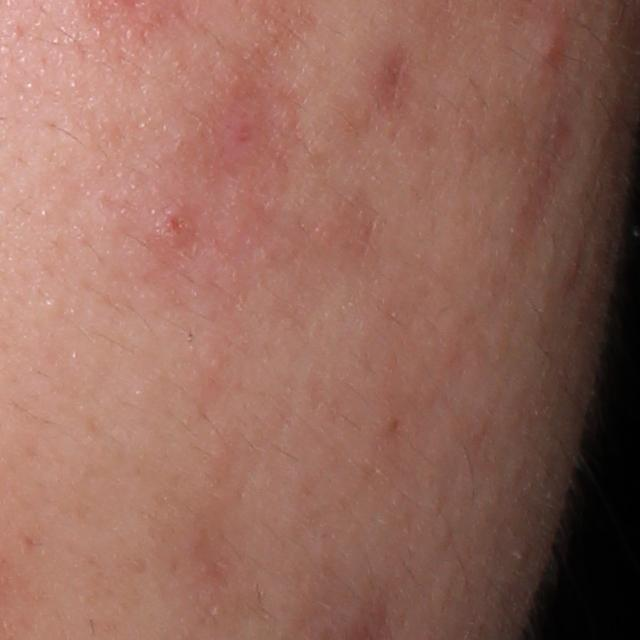papule: (154, 203, 205, 251), (531, 22, 574, 74)
